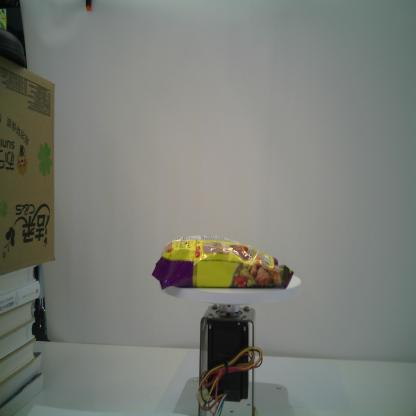Instant Noodles: (151, 235, 294, 290)
